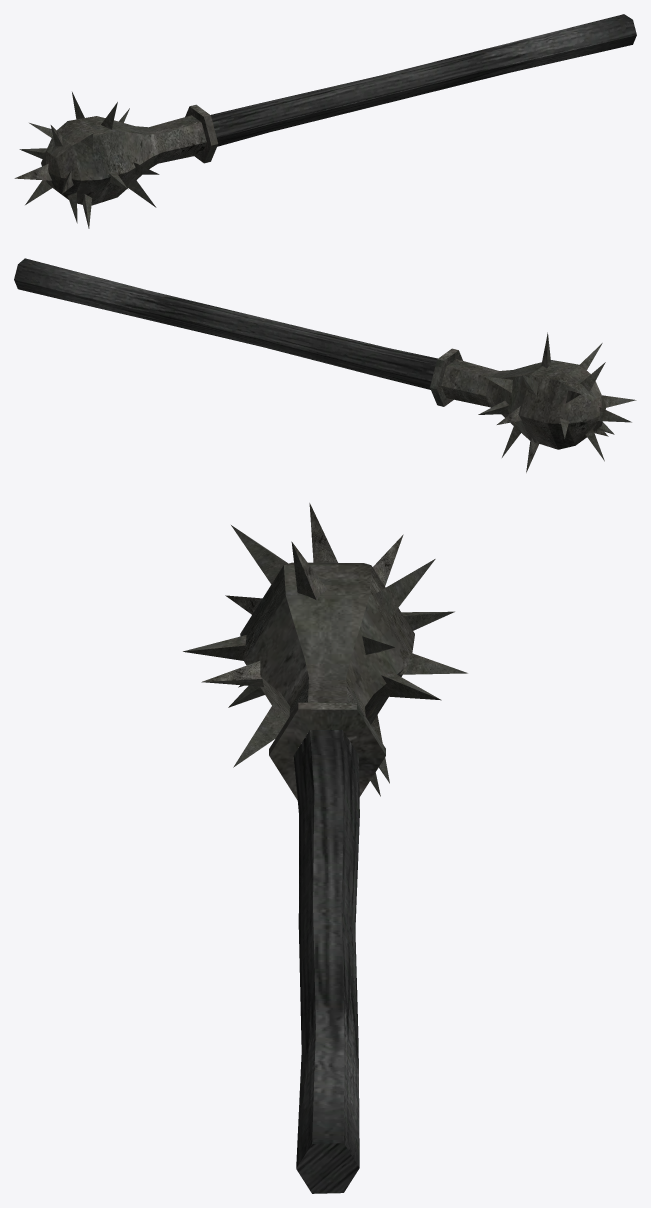
File: KM_ITMW_1H_MACE_02.glb
The picture shows the model from 3 angles, top to bottom: view 1: azimuth 30°, elevation 25°; view 2: azimuth 150°, elevation 25°; view 3: azimuth 270°, elevation 25°; orthographic projection. The views are drawn at different scales.
Visible parts, largest first — view 1: KM_ITMW_1H_MACE_02; view 2: KM_ITMW_1H_MACE_02; view 3: KM_ITMW_1H_MACE_02.
Part boxes in pixels (left/top/right/bottom): KM_ITMW_1H_MACE_02: left=14, top=14, right=636, bottom=228; KM_ITMW_1H_MACE_02: left=14, top=258, right=636, bottom=472; KM_ITMW_1H_MACE_02: left=183, top=503, right=467, bottom=1193.
Bounding box in the file's own units: 0.9154 × 0.1757 × 0.186.
Materials: 2 (2 with a texture image).
